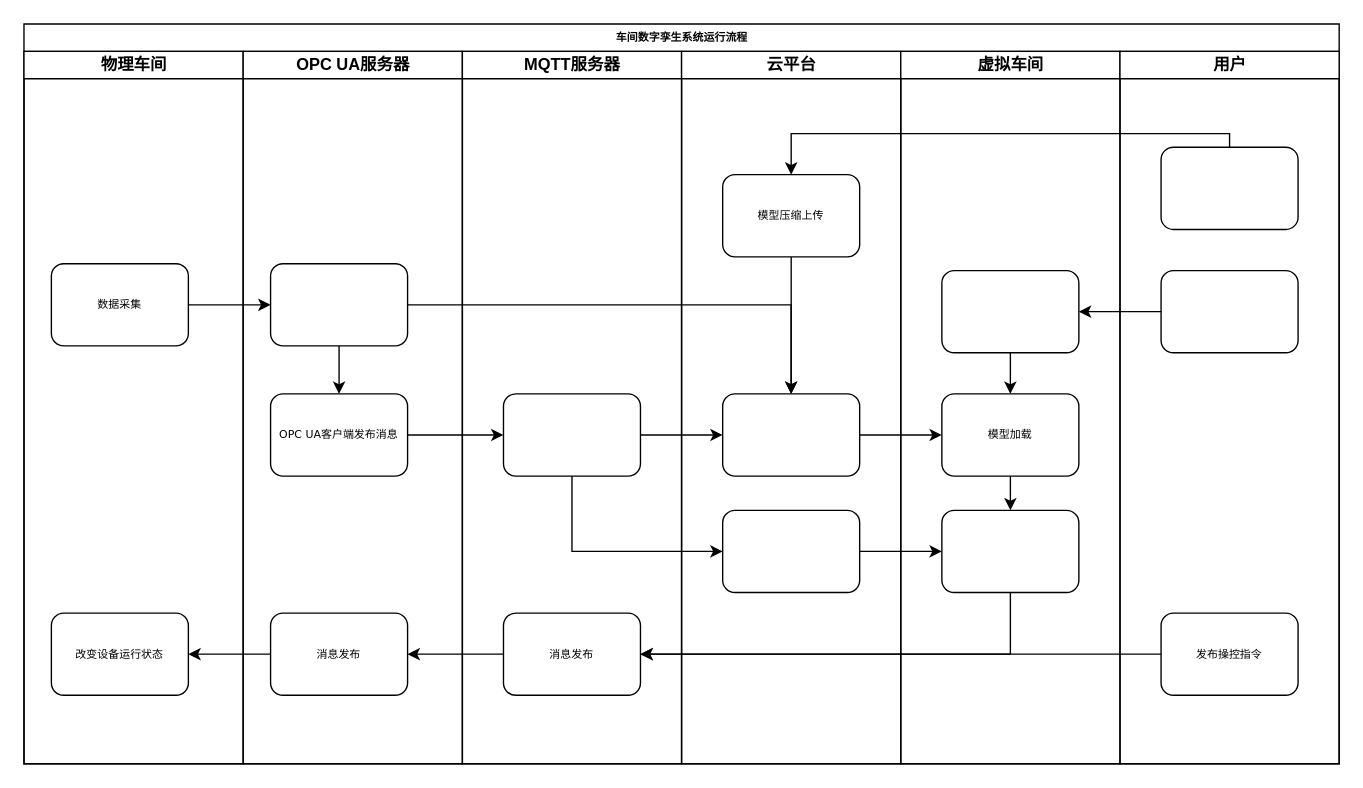
The diagram is 1363 pixels wide and 788 high, and some of its shapes have lost their labels. The centre of each missing label's shape, as x and y in pixels:
"OPC UA服务器获取实时数据" belongs at pixel 338 304.
"创建新场景" belongs at pixel 1229 311.
"初始化新场景" belongs at pixel 1010 311.
"存入共享数据库" belongs at pixel 790 434.
"孪生模型获取同步实时更新" belongs at pixel 1010 551.
"添加新模型" belongs at pixel 1229 187.
"订阅MQTT服务器发来的数据" belongs at pixel 790 551.
"订阅OPC UA客户端发来的数据" belongs at pixel 571 434.
